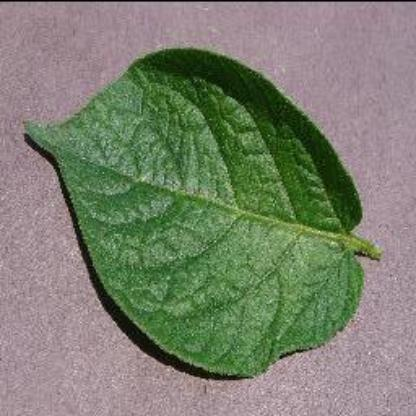Healthy-plant: (13, 44, 400, 380)
